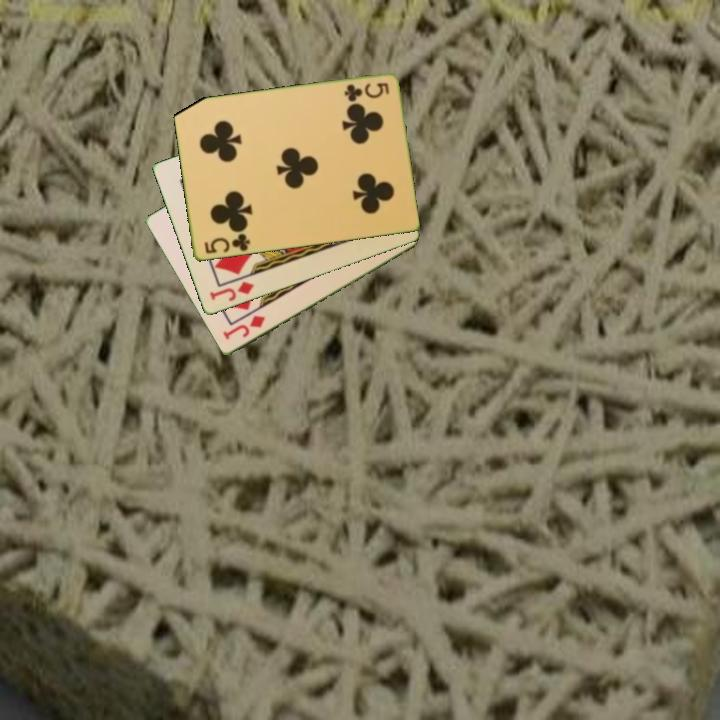5c: (200, 230, 253, 257), (340, 79, 392, 104)
Jd: (219, 312, 268, 343), (206, 278, 257, 305)
